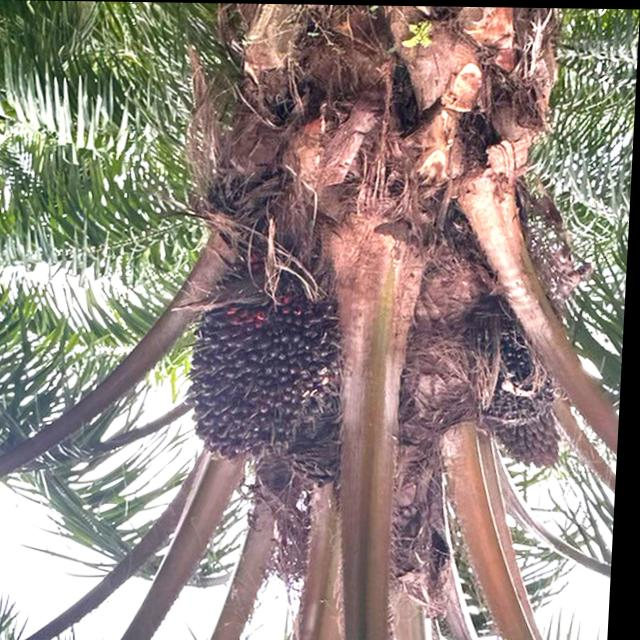ripe: (166, 234, 370, 471)
